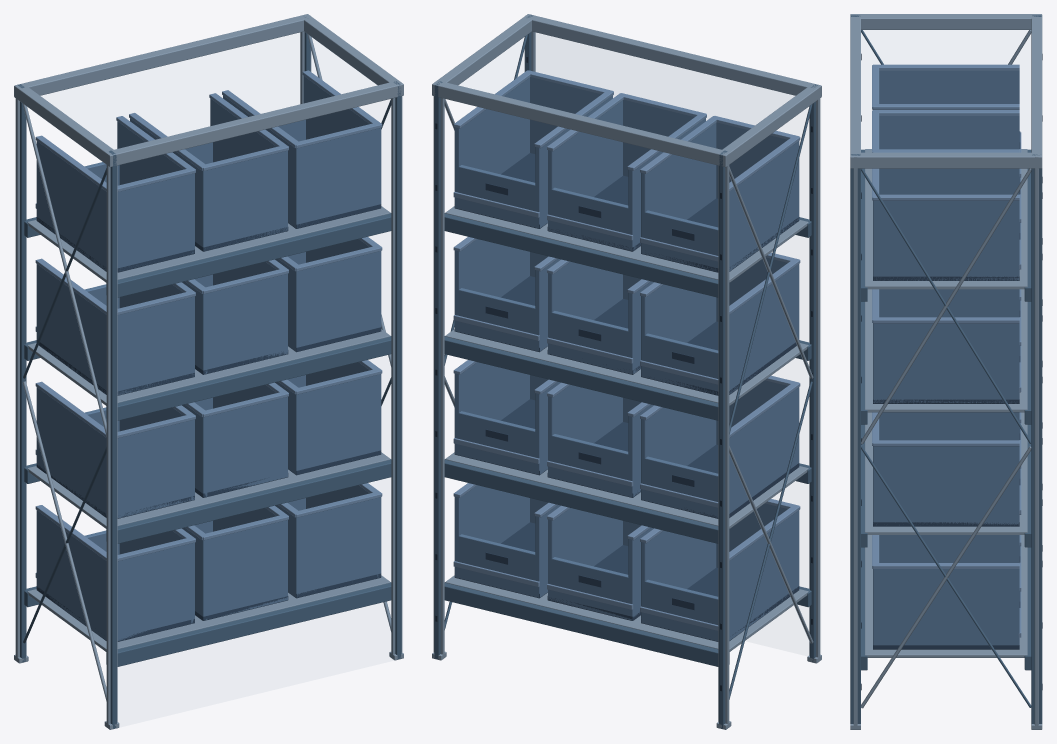
File: SM_VR_RackBay.fbx
The picture shows the model from 3 angles, left to right: view 1: azimuth 30°, elevation 25°; view 2: azimuth 150°, elevation 25°; view 3: azimuth 270°, elevation 25°; orthographic projection.
Visible parts, largest first — view 1: SM_VR_RackBay; view 2: SM_VR_RackBay; view 3: SM_VR_RackBay.
Part boxes in pixels (<box>): SM_VR_RackBay: <box>14,14,403,729</box>; SM_VR_RackBay: <box>432,14,821,729</box>; SM_VR_RackBay: <box>850,14,1042,729</box>.
Size of the model in its own units: 150 by 85.2 by 280.
